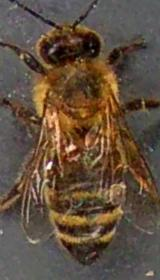varroa_mite: (55, 135, 82, 169)
